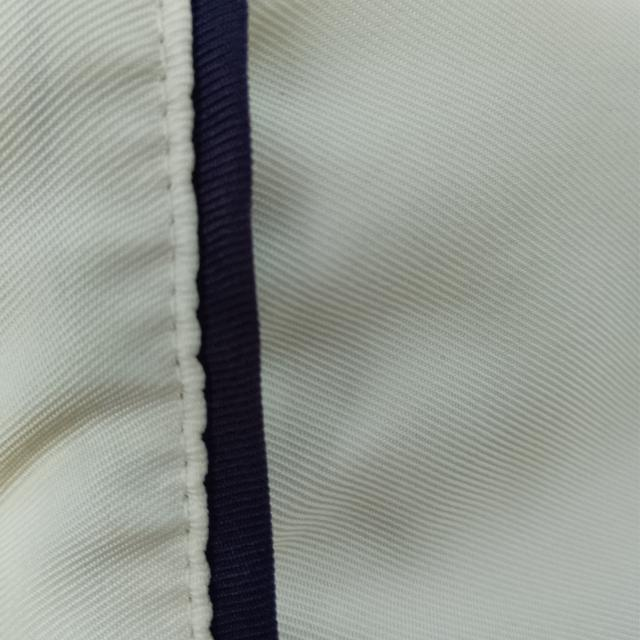education_male_uniform: (18, 0, 446, 629)
